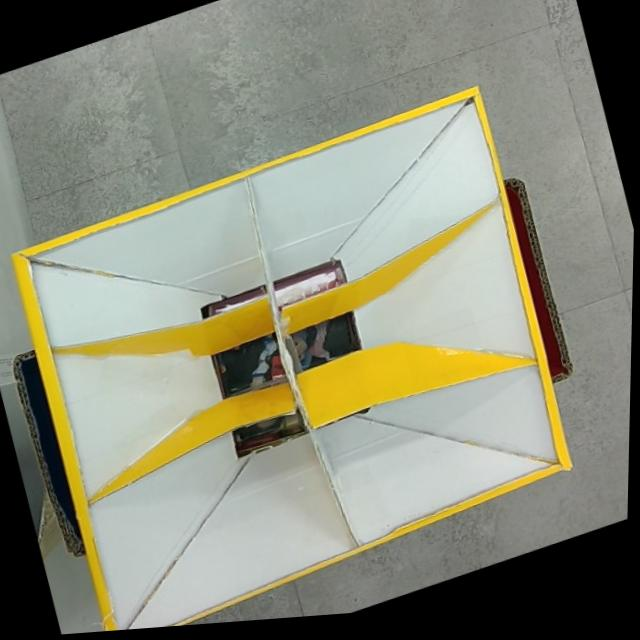box: (0, 81, 610, 640)
